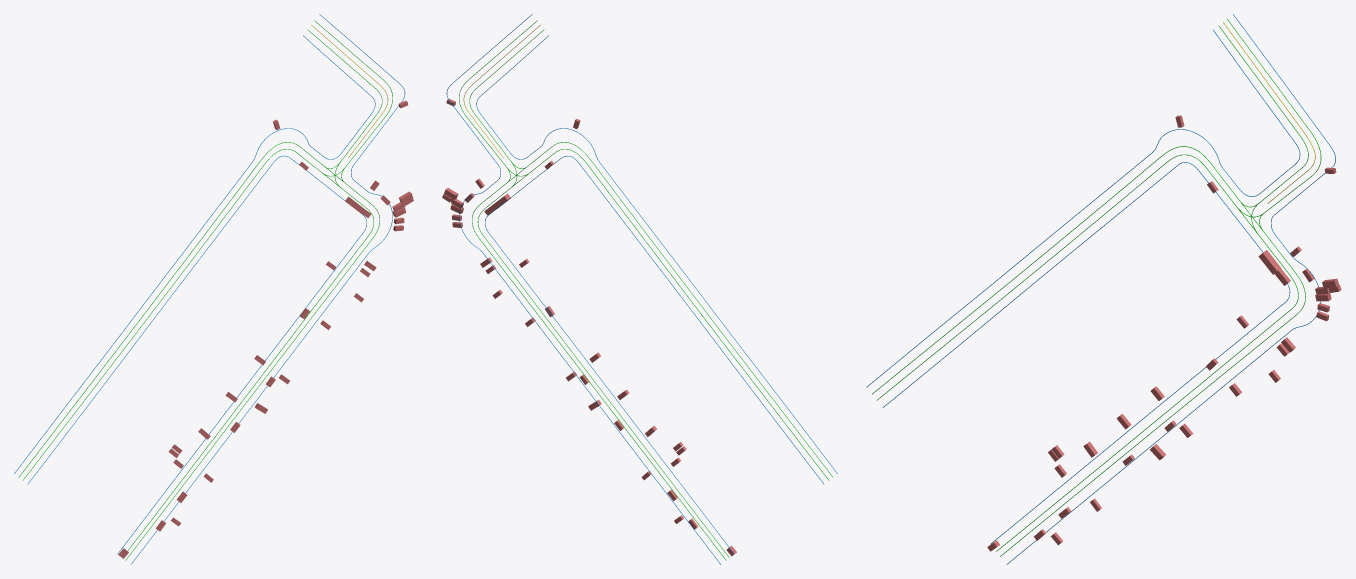
The model's file is map_s102751.glb.
3 views of the same model, side by side, from view 1: azimuth 30°, elevation 25°; view 2: azimuth 150°, elevation 25°; view 3: azimuth 330°, elevation 25° (orthographic). The views are drawn at different scales.
Visible parts, largest first — view 1: world; view 2: world; view 3: world.
Boxes of the visible parts, x1,y1,x2,y2 form: world: [14, 14, 413, 564]; world: [442, 14, 837, 564]; world: [866, 14, 1341, 564].
Bounding box in the file's own units: 218 × 265 × 3.97.
